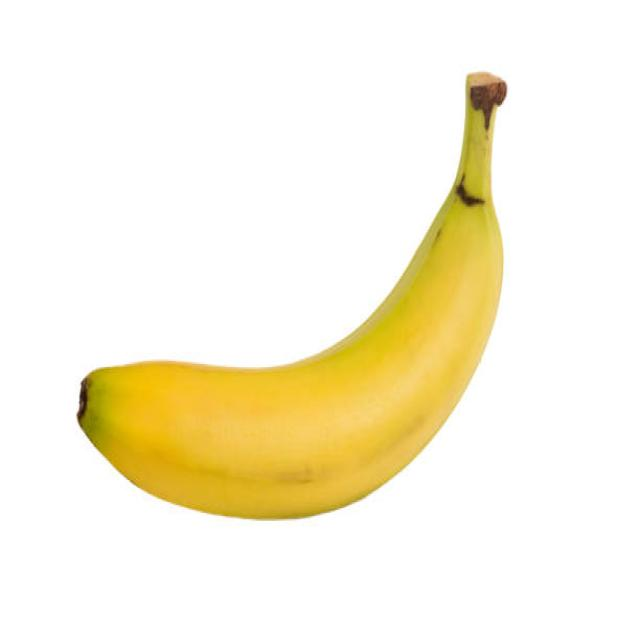banana: (75, 70, 508, 521)
